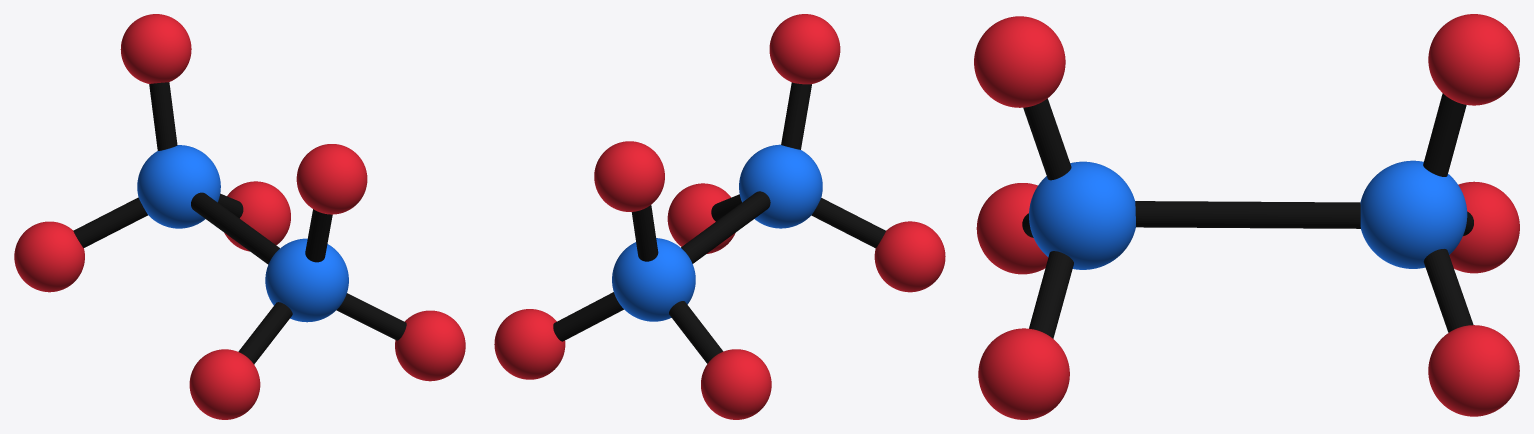
File: eclipsed .glb
The picture shows the model from 3 angles, left to right: view 1: azimuth 30°, elevation 25°; view 2: azimuth 150°, elevation 25°; view 3: azimuth 270°, elevation 25°; orthographic projection. The views are drawn at different scales.
Parts seen in each view (by area): view 1: Sphere.002, Sphere.007, Sphere.009, Sphere.008, Sphere.006, Sphere.004, Sphere.010, Sphere.005, Cylinder.001, Cylinder.002, Cylinder.007, Cylinder.004 (+2 smaller); view 2: Sphere.007, Sphere.002, Sphere.006, Sphere.004, Sphere.009, Sphere.008, Sphere.005, Sphere.010, Cylinder.001, Cylinder.005, Cylinder.003, Cylinder.006 (+3 smaller); view 3: Sphere.002, Sphere.007, Sphere.005, Sphere.009, Sphere.006, Sphere.010, Cylinder.001, Sphere.004, Sphere.008, Cylinder.007, Cylinder.003, Cylinder.006 (+1 smaller).
Boxes of the visible parts, x1,y1,x2,y2 form: Sphere.002: (137,145,220,228); Sphere.007: (265,238,348,322); Sphere.009: (296,144,367,214); Sphere.008: (189,349,260,419); Sphere.006: (120,14,191,83); Sphere.004: (14,221,84,292); Sphere.010: (395,310,465,381); Sphere.005: (224,181,290,251); Cylinder.001: (191,192,279,264); Cylinder.002: (73,197,147,247); Cylinder.007: (336,293,406,340); Cylinder.004: (149,82,177,150); Sphere.007: (739,144,822,228); Sphere.002: (612,238,695,321); Sphere.006: (594,141,664,211); Sphere.004: (701,349,771,419); Sphere.009: (769,14,840,84); Sphere.008: (874,221,945,292); Sphere.005: (494,309,565,379); Sphere.010: (667,183,735,253); Cylinder.001: (681,191,770,263); Cylinder.005: (811,198,885,248); Cylinder.003: (553,292,623,341); Cylinder.006: (781,82,811,149); Sphere.002: (1360,160,1467,268); Sphere.007: (1029,161,1135,269); Sphere.005: (1428,325,1519,416); Sphere.009: (974,16,1065,107); Sphere.006: (1428,14,1519,105); Sphere.010: (978,328,1069,419); Cylinder.001: (1135,201,1360,228); Sphere.004: (1449,181,1519,273); Sphere.008: (976,183,1048,274); Cylinder.007: (1029,251,1073,338); Cylinder.003: (1423,249,1473,332); Cylinder.006: (1023,98,1071,180).
Bounding box in the file's own units: 7.4 × 6.81 × 10.08.
